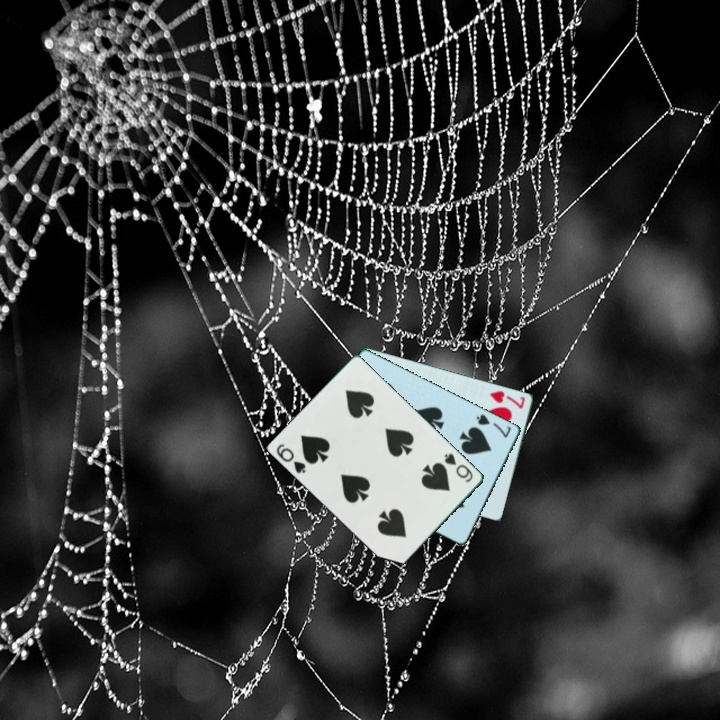6s: (273, 440, 309, 477), (441, 449, 476, 485)
7h: (486, 387, 528, 412)
7s: (473, 410, 515, 441)
